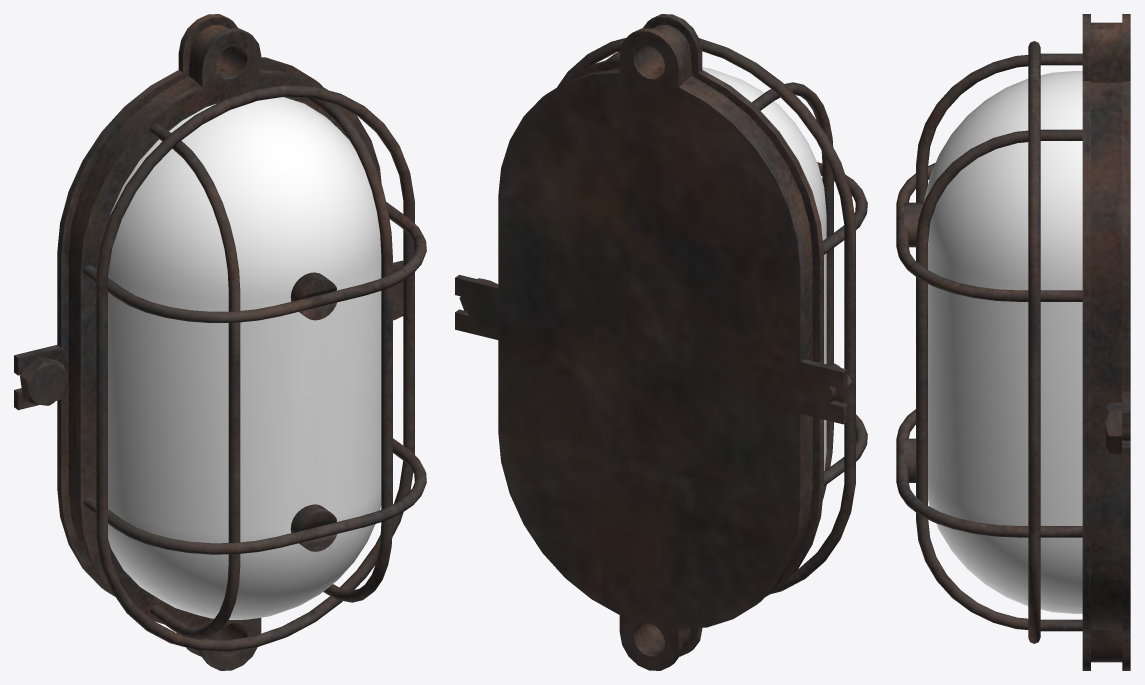
The model's file is industrial_wall_lamp.glb.
3 renders of one model, left to right at view 1: azimuth 30°, elevation 25°; view 2: azimuth 150°, elevation 25°; view 3: azimuth 270°, elevation 25°, orthographic.
Parts seen in each view (by area): view 1: industrial_wall_lamp_1, industrial_wall_lamp_0; view 2: industrial_wall_lamp_0, industrial_wall_lamp_1; view 3: industrial_wall_lamp_1, industrial_wall_lamp_0.
Boxes of the visible parts, x1=… form: industrial_wall_lamp_1: x1=108, y1=97, x2=381, y2=619; industrial_wall_lamp_0: x1=14, y1=14, x2=426, y2=670; industrial_wall_lamp_0: x1=455, y1=14, x2=867, y2=670; industrial_wall_lamp_1: x1=702, y1=67, x2=826, y2=471; industrial_wall_lamp_1: x1=924, y1=71, x2=1082, y2=613; industrial_wall_lamp_0: x1=896, y1=14, x2=1130, y2=670.
Size of the model in its own units: 0.2735 by 0.4299 by 0.1404.
2 materials, 1 textured.
